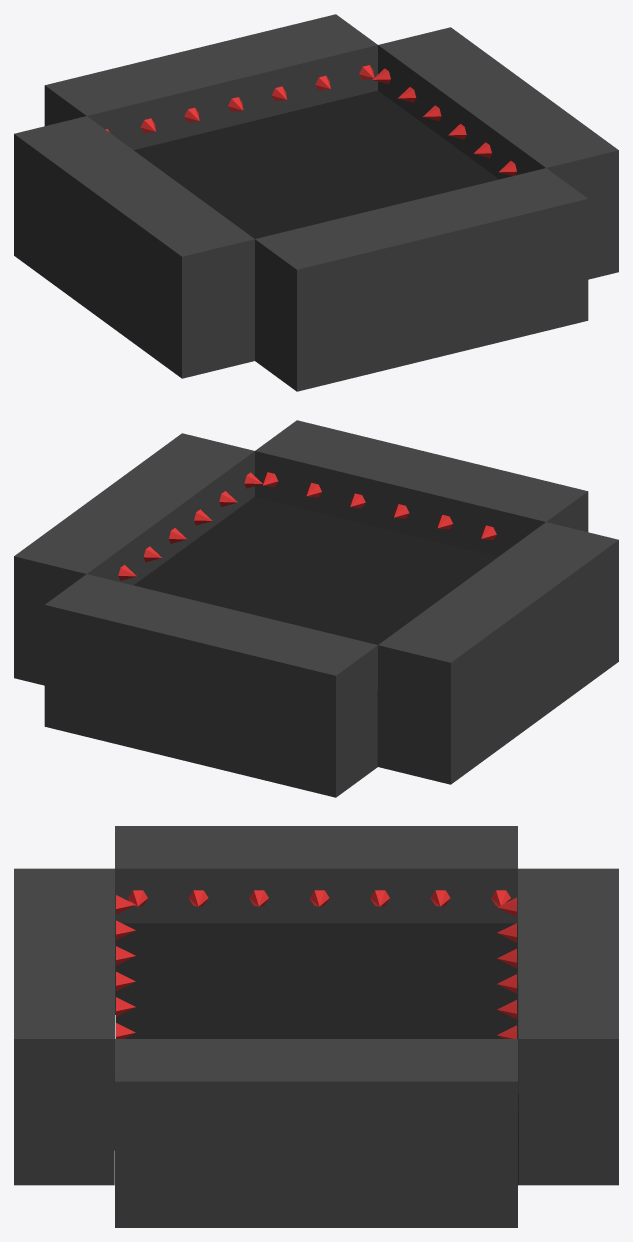
Rendered from Arena.fbx.
3 views of the same model, one above another, from view 1: azimuth 30°, elevation 25°; view 2: azimuth 150°, elevation 25°; view 3: azimuth 270°, elevation 25° (orthographic). The views are drawn at different scales.
Visible parts, largest first — view 1: Wall2, Wall3, Platform, Wall4, Wall1; view 2: Wall4, Wall3, Platform, Wall2, Wall1; view 3: Wall1, Platform, Wall3, Wall2, Wall4.
Boxes of the visible parts, bbox=[...] form: Wall2: bbox=[255, 168, 588, 391]; Wall3: bbox=[14, 116, 254, 378]; Platform: bbox=[134, 90, 498, 238]; Wall4: bbox=[44, 14, 377, 150]; Wall1: bbox=[372, 27, 618, 279]; Wall4: bbox=[44, 574, 377, 797]; Wall3: bbox=[378, 522, 618, 784]; Platform: bbox=[134, 497, 498, 766]; Wall2: bbox=[255, 420, 588, 556]; Wall1: bbox=[14, 433, 262, 685]; Wall1: bbox=[115, 1039, 517, 1227]; Platform: bbox=[115, 923, 518, 1185]; Wall3: bbox=[115, 826, 517, 1014]; Wall2: bbox=[14, 868, 135, 1185]; Wall4: bbox=[497, 868, 618, 1185].
Size of the model in its own units: 15000 by 4000 by 15000.
